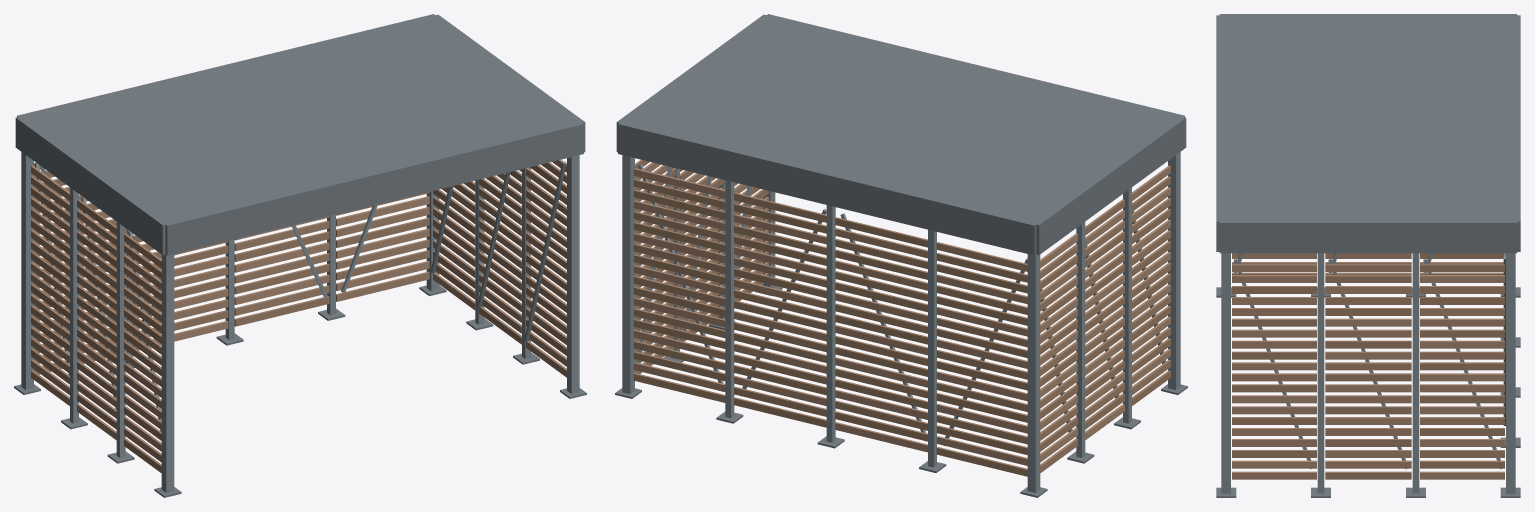
The model's file is container_shelter_category.glb.
3 views of the same model, side by side, from view 1: azimuth 30°, elevation 25°; view 2: azimuth 150°, elevation 25°; view 3: azimuth 270°, elevation 25° (orthographic).
Visible parts, largest first — view 1: roof_sheet, fascia_front, fascia_left, post_corner_fl, post_corner_fr, fascia_back, post_corner_bl, post_left_inner_2, post_left_inner_1, post_right_inner_2, right_brace_2, back_slat_bay2_0 (+21 smaller); view 2: roof_sheet, fascia_back, fascia_left, post_corner_bl, post_corner_br, fascia_front, post_corner_fl, post_back_inner_2, post_back_inner_3, post_back_inner_1, post_left_inner_1, post_left_inner_2 (+81 smaller); view 3: roof_sheet, fascia_right, fascia_front, fascia_back, post_corner_fr, post_corner_br, post_right_inner_2, post_right_inner_1, fascia_left, right_slat_bay1_19, right_slat_bay1_14, right_slat_bay1_13 (+60 smaller).
Part boxes in pixels (<box>): roof_sheet: <box>25,16,580,223</box>; fascia_front: <box>165,123,583,255</box>; fascia_left: <box>15,115,173,254</box>; post_corner_fl: <box>161,254,174,492</box>; post_corner_fr: <box>567,155,579,393</box>; fascia_back: <box>17,14,439,120</box>; post_corner_bl: <box>21,152,33,390</box>; post_left_inner_2: <box>116,222,125,457</box>; post_left_inner_1: <box>70,187,78,423</box>; post_right_inner_2: <box>522,167,530,358</box>; right_brace_2: <box>524,161,566,341</box>; back_slat_bay2_0: <box>234,296,329,326</box>; roof_sheet: <box>621,16,1176,223</box>; fascia_back: <box>618,123,1039,255</box>; fascia_left: <box>1028,115,1186,254</box>; post_corner_bl: <box>1027,254,1040,492</box>; post_corner_br: <box>622,155,634,393</box>; fascia_front: <box>762,14,1184,120</box>; post_corner_fl: <box>1168,152,1180,390</box>; post_back_inner_2: <box>826,205,835,442</box>; post_back_inner_3: <box>725,180,734,417</box>; post_back_inner_1: <box>928,229,936,467</box>; post_left_inner_1: <box>1076,222,1085,457</box>; post_left_inner_2: <box>1123,187,1131,423</box>; roof_sheet: <box>1220,16,1516,220</box>; fascia_right: <box>1219,217,1517,253</box>; fascia_front: <box>1216,15,1229,251</box>; fascia_back: <box>1507,15,1520,251</box>; post_corner_fr: <box>1221,253,1230,493</box>; post_corner_br: <box>1506,253,1515,493</box>; post_right_inner_2: <box>1317,253,1324,493</box>; post_right_inner_1: <box>1412,253,1419,493</box>; fascia_left: <box>1219,14,1517,19</box>; right_slat_bay1_19: <box>1325,264,1411,272</box>; right_slat_bay1_14: <box>1325,318,1411,326</box>; right_slat_bay1_13: <box>1325,329,1411,337</box>.
Size of the model in its own units: 4.43 by 2.72 by 2.73.
